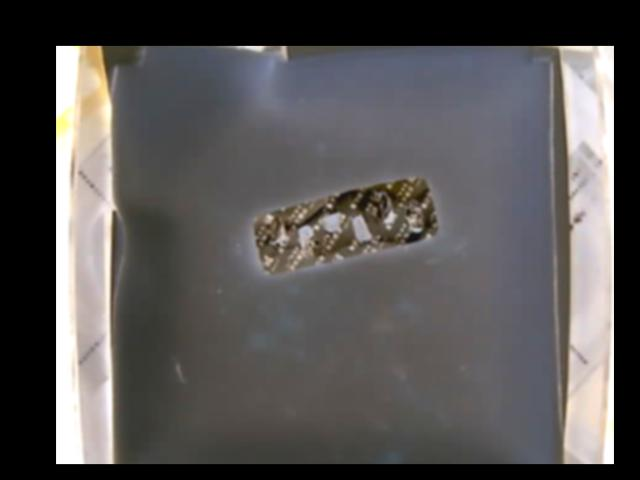Medicine: (249, 175, 438, 275)
